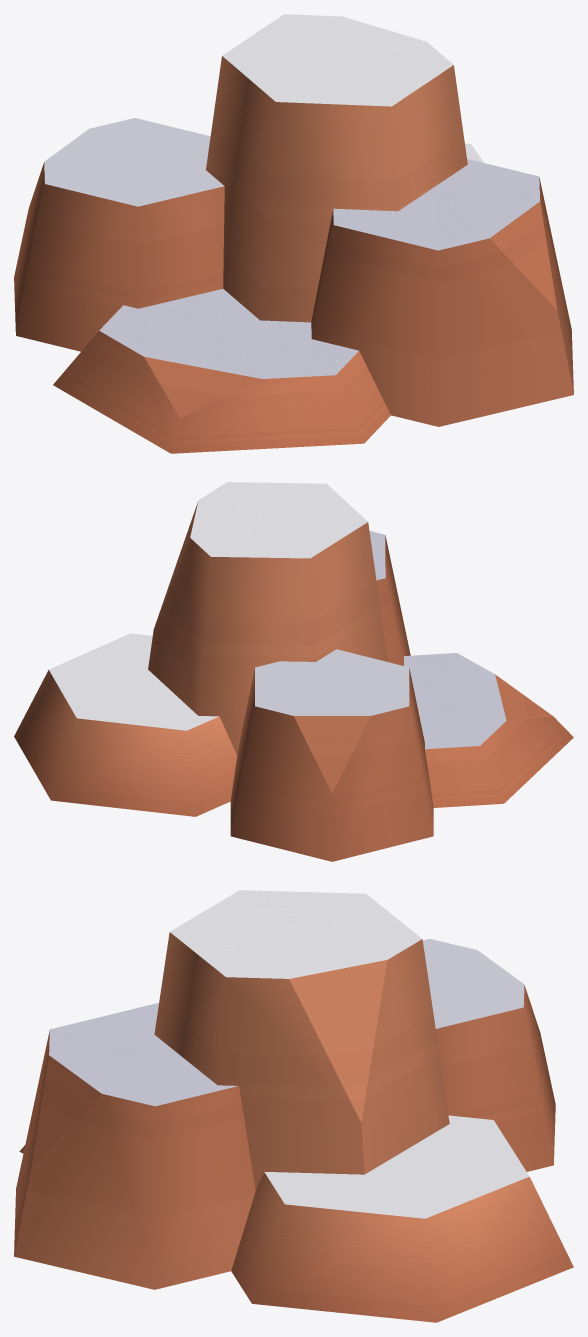
Rendered from tower-defense-kit--snow-detail-dirt-large.glb.
3 views of the same model, one above another, from view 1: azimuth 30°, elevation 25°; view 2: azimuth 150°, elevation 25°; view 3: azimuth 270°, elevation 25° (orthographic). The views are drawn at different scales.
Visible parts, largest first — view 1: snow-detail-dirt-large; view 2: snow-detail-dirt-large; view 3: snow-detail-dirt-large.
Boxes of the visible parts, x1,y1,x2,y2 form: snow-detail-dirt-large: (14, 14, 573, 453); snow-detail-dirt-large: (14, 482, 573, 861); snow-detail-dirt-large: (14, 890, 573, 1322).
Bounding box in the file's own units: 0.8531 × 0.4145 × 0.7785.
1 material, 1 textured.
